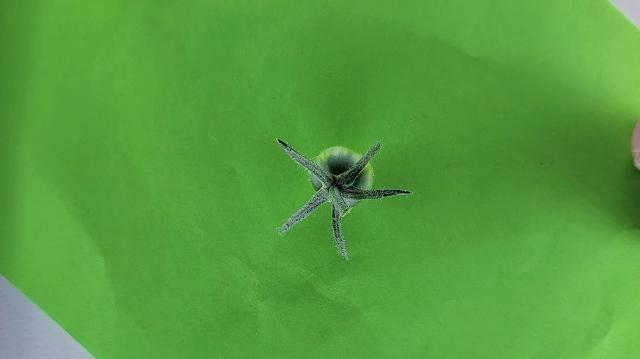Fruit Maturation: (308, 146, 374, 202)
